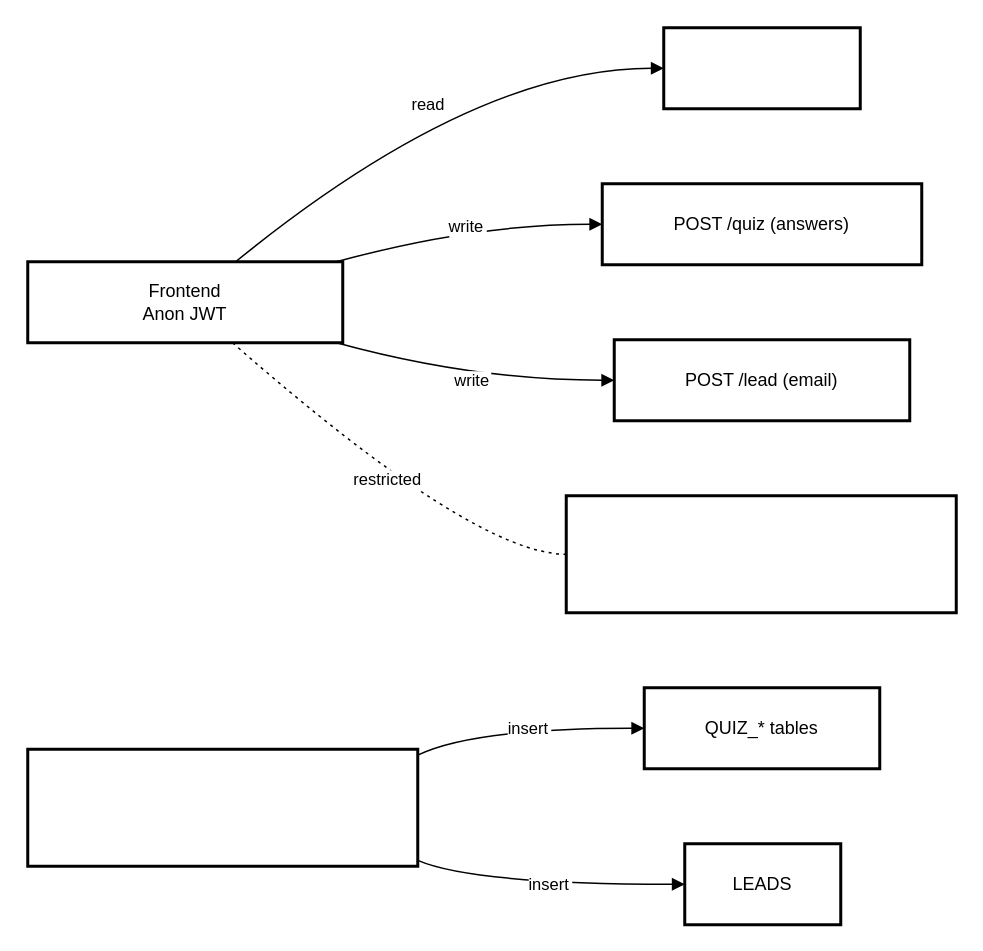
Image size: 983x951. Some labels were removed from this diagram. Here are the shapes that lost their labels. From the top down, the box of each, then its label:
(662, 26, 861, 110): GET /quiz
(564, 494, 957, 614): Direct DB access: NO (RLS ON)
(26, 747, 418, 867): Edge Function Service Role
